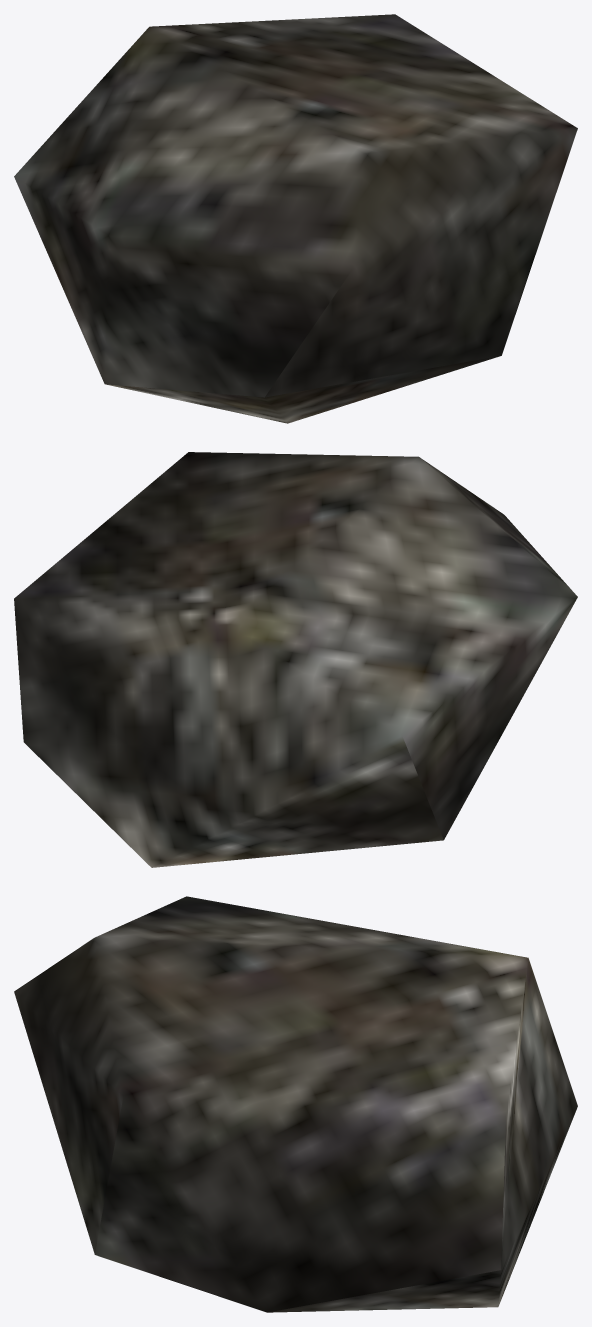
Rendered from Rock2_6.fbx.
3 renders of one model, top to bottom at view 1: azimuth 30°, elevation 25°; view 2: azimuth 150°, elevation 25°; view 3: azimuth 270°, elevation 25°, orthographic. The views are drawn at different scales.
Parts seen in each view (by area): view 1: Rock2_LOD_6; view 2: Rock2_LOD_6; view 3: Rock2_LOD_6.
Boxes of the visible parts, x1,y1,x2,y2 form: Rock2_LOD_6: [14, 14, 577, 423]; Rock2_LOD_6: [14, 452, 577, 867]; Rock2_LOD_6: [14, 896, 577, 1312].
Size of the model in its own units: 1.06 by 0.7549 by 1.13.
